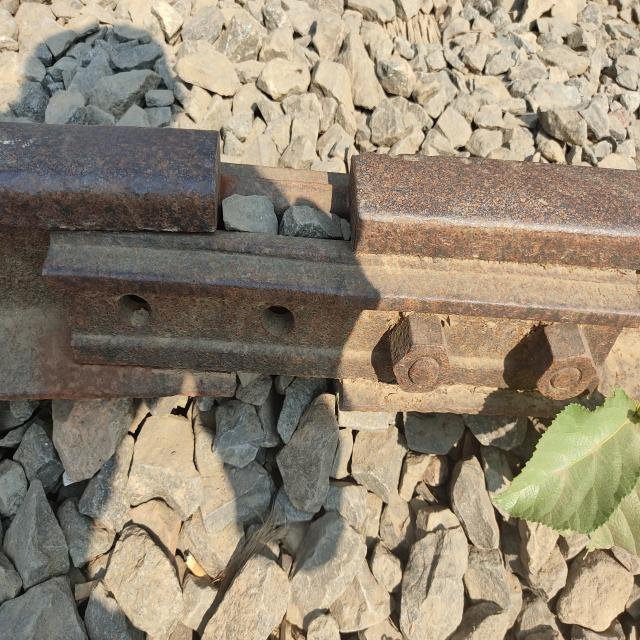defective: (132, 92, 544, 450)
